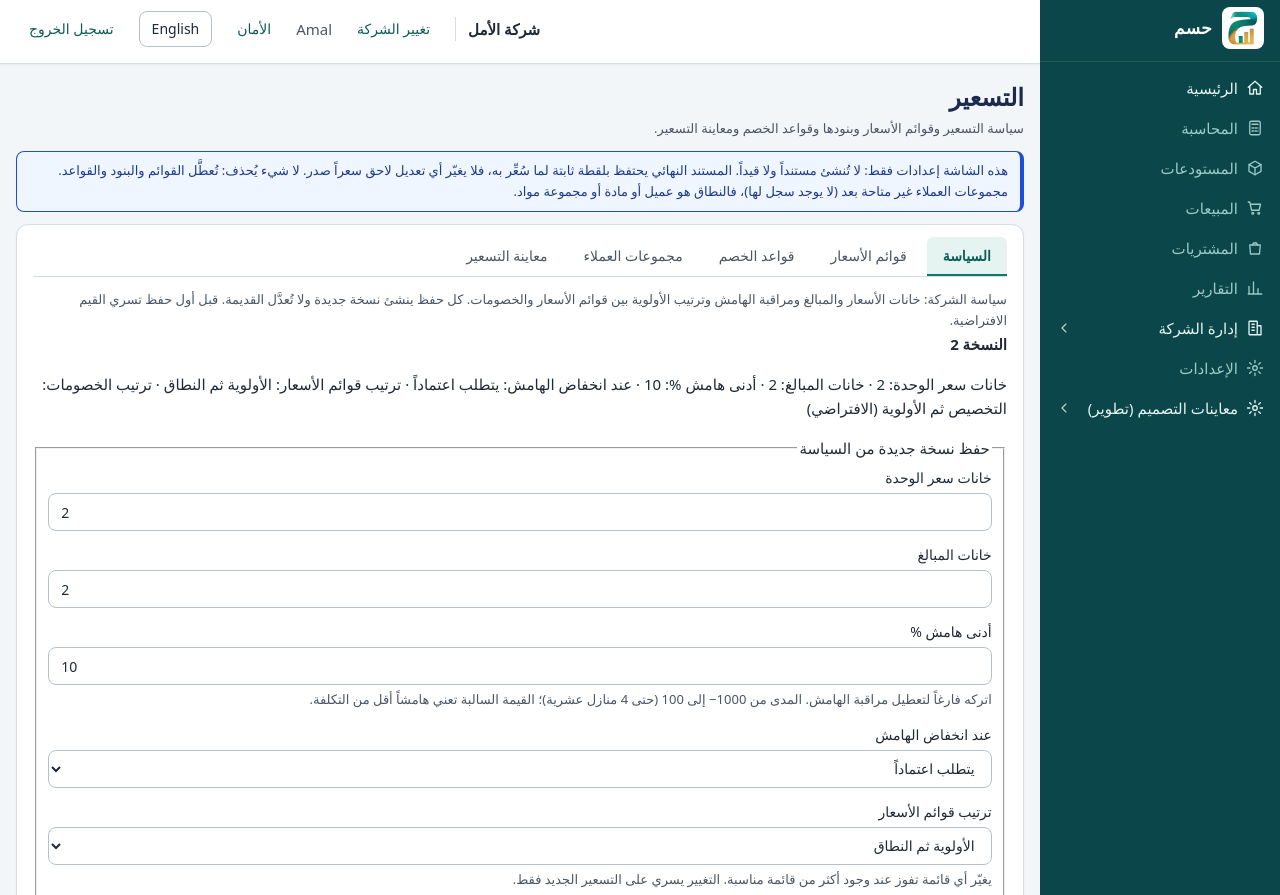
it: pricing administration screen › saves a new policy version sending the version it read (the server fences it) and reports a conflict
Expected: the element with test id "company-name" is shown, [455,17,540,41]
Select "النطاق ثم الأولوية (الافتراضي)" in the dropdown labelled "ترتيب قوائم الأسعار". click: x=520, y=846
box: [48,827,992,865]
(page scrolled)
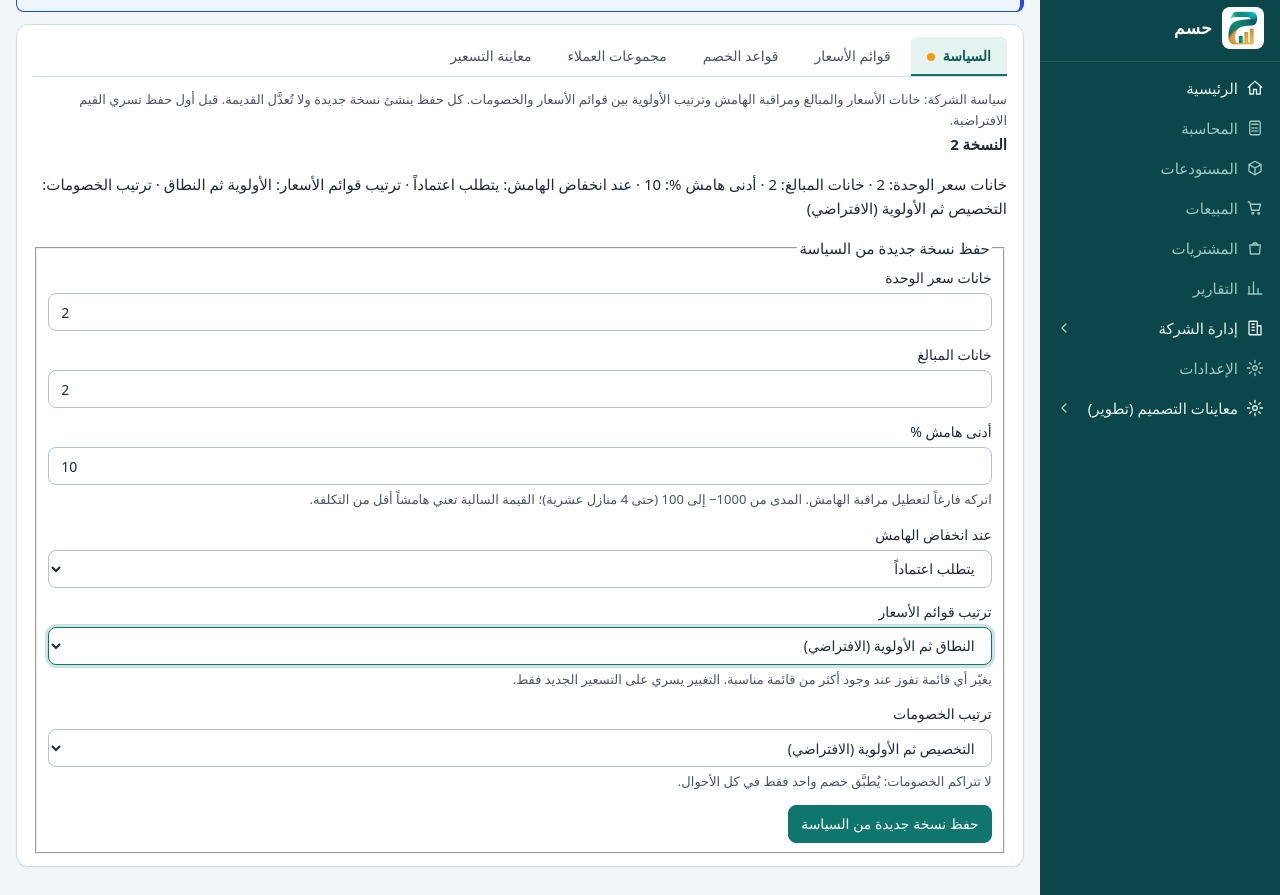
Select "الأولوية ثم التخصيص" in the dropdown labelled "ترتيب الخصومات". click: x=520, y=748
box: [48,730,992,768]
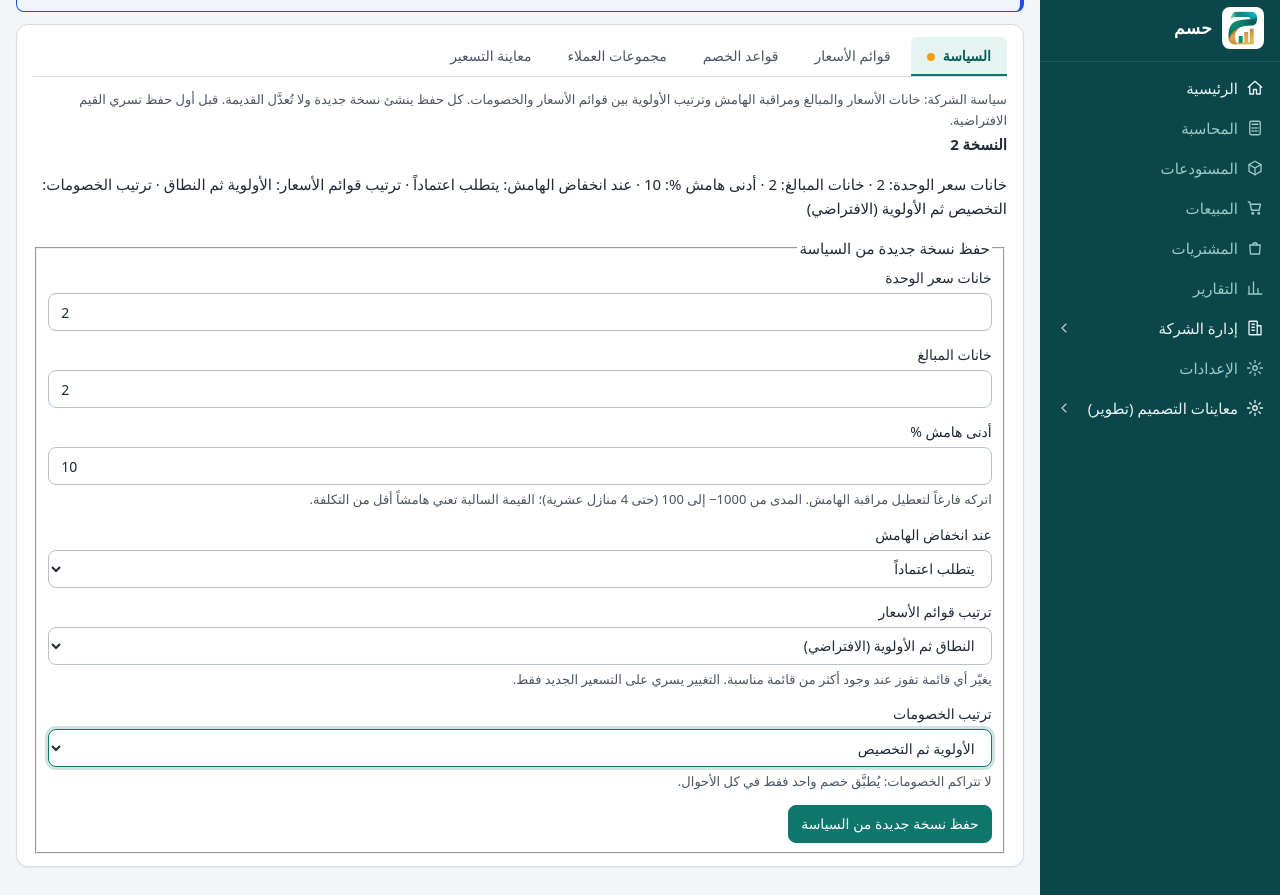
Click the button "حفظ نسخة جديدة من السياسة". click: x=890, y=824
box: [788,805,992,843]
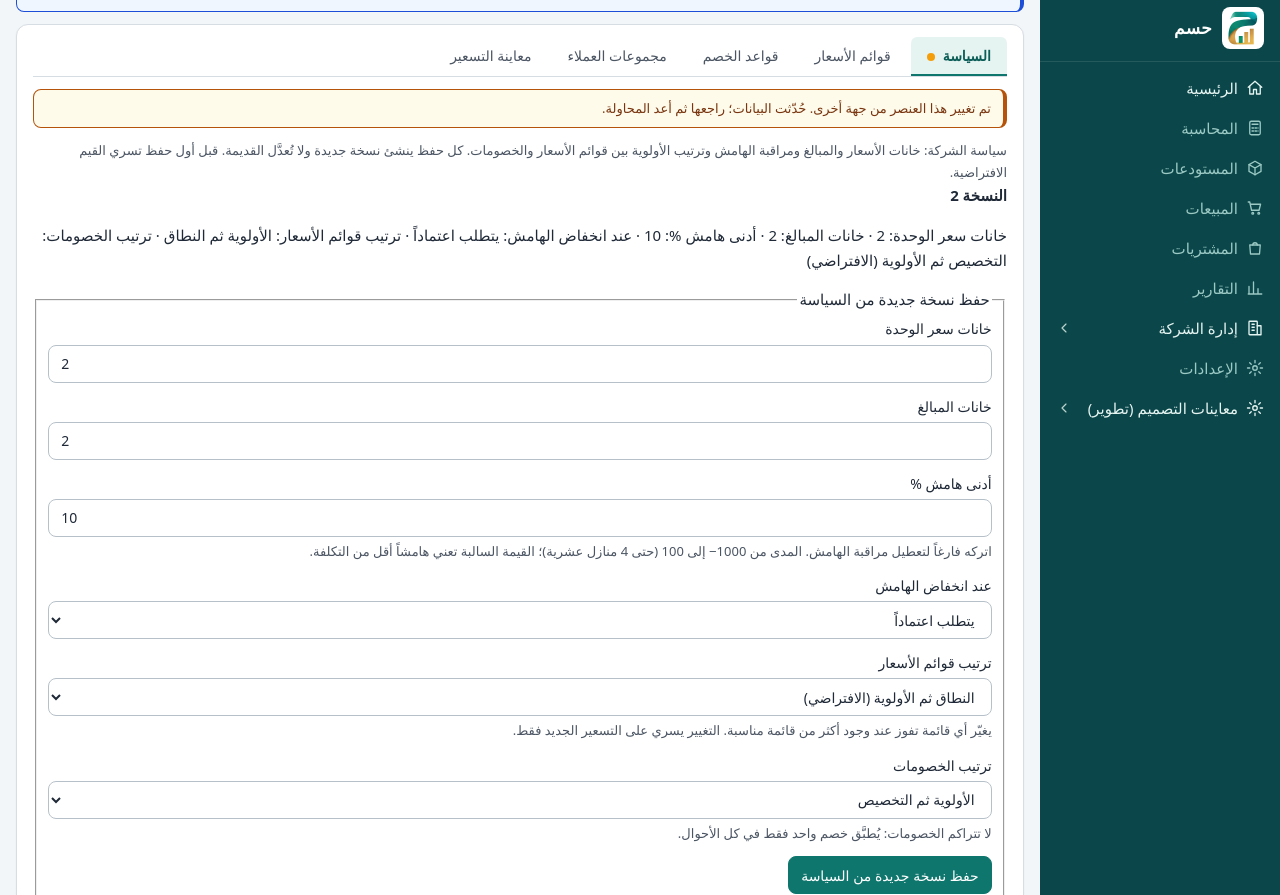
Result: the message "تم تغيير هذا العنصر من جهة أخرى. حُدّثت البيانات؛ راجعها ثم أعد المحاولة." is shown at [33,89,1007,128]
